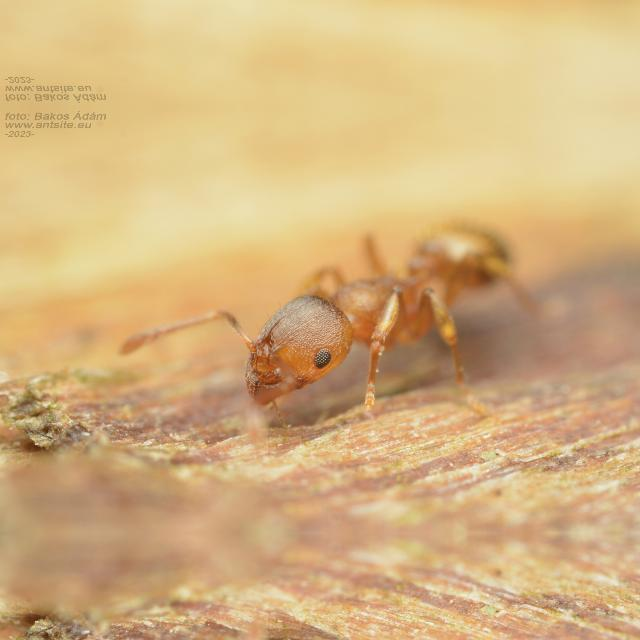Temnothorax: (181, 190, 563, 422)
